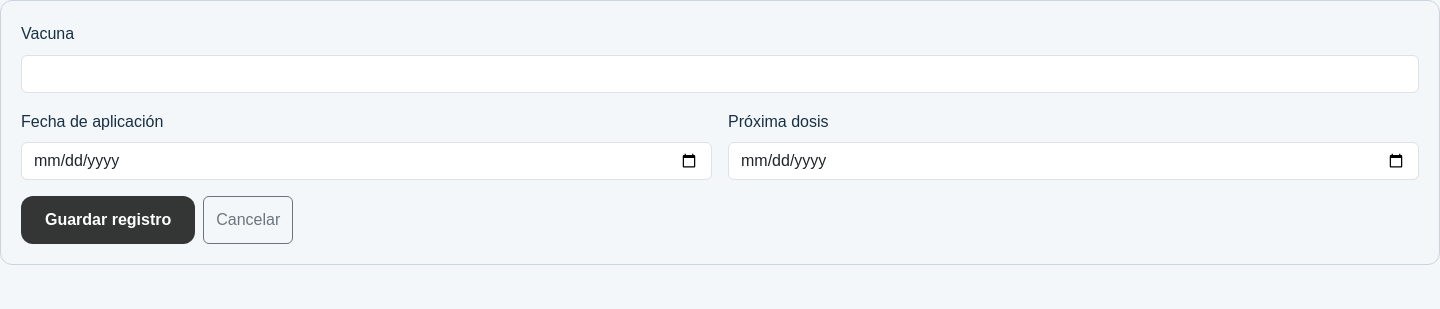
FormularioRegistroClinico (vacunas y desparasitaciones) › rechaza una próxima dosis que no es posterior a la aplicación
Type "Antirrábica" into the field labelled "Vacuna". click: (720, 74)
box: [21, 55, 1419, 93]
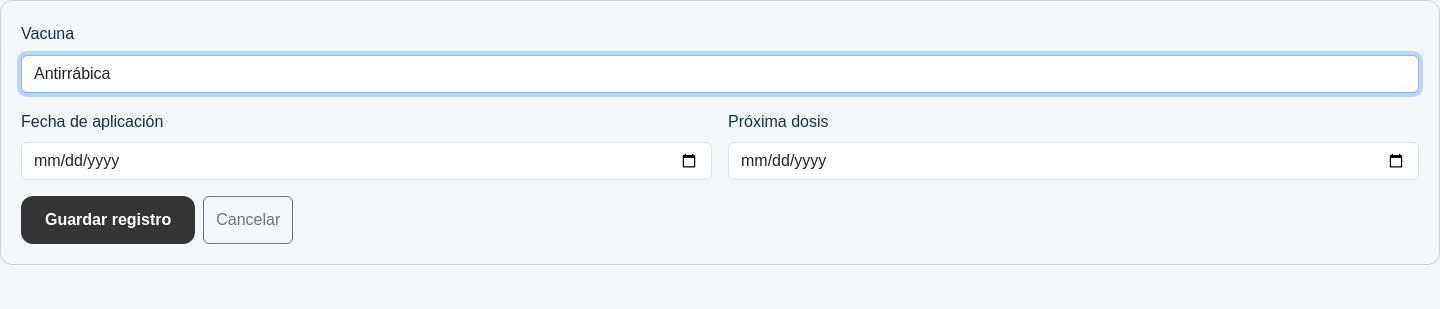
Type "2025-05-10" into the date field labelled "Fecha de aplicación". click: (366, 161)
box: [21, 142, 712, 180]
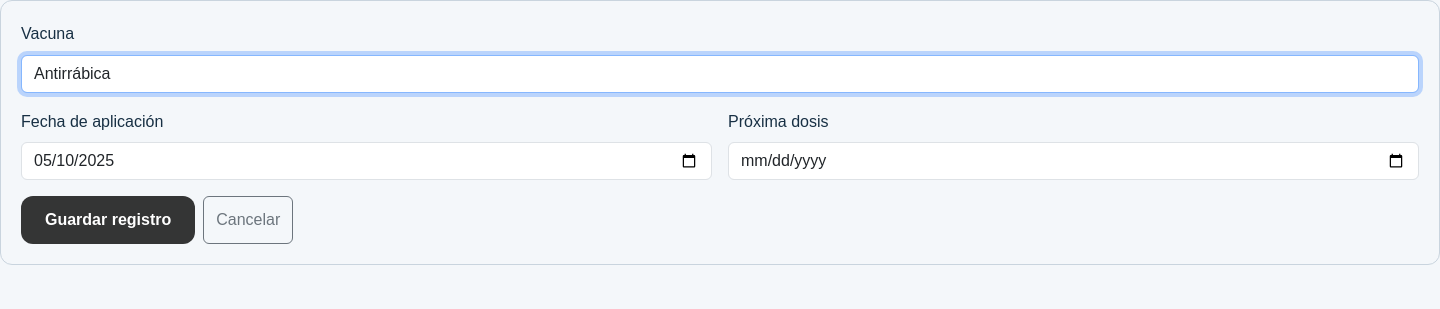
Type "2025-05-10" into the date field labelled "Próxima dosis". click: (1074, 161)
box: [728, 142, 1419, 180]
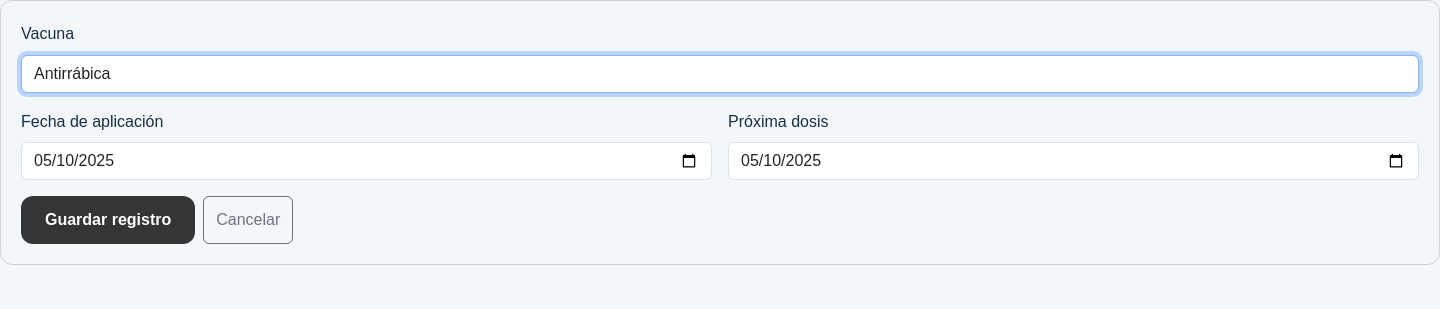
Click the button "Guardar registro". click: (108, 220)
box: [21, 196, 195, 244]
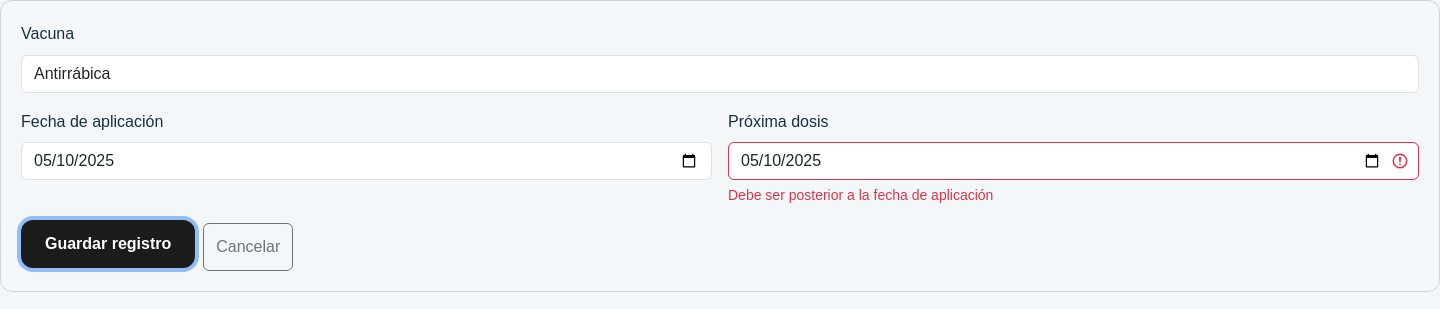
Result: the text "Debe ser posterior a la fecha de aplicación" is shown at [728, 187, 993, 203]
